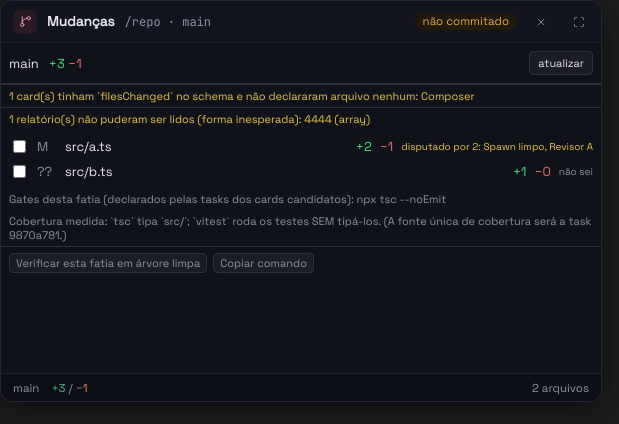
Test case: ChangesCard — a fatia › o limite (por ARQUIVO, arrasta hunk de terceiro) aparece NA SELEÇÃO
Click the checkbox in the row of "src/a.ts" at (20, 146), box [13, 140, 26, 153]
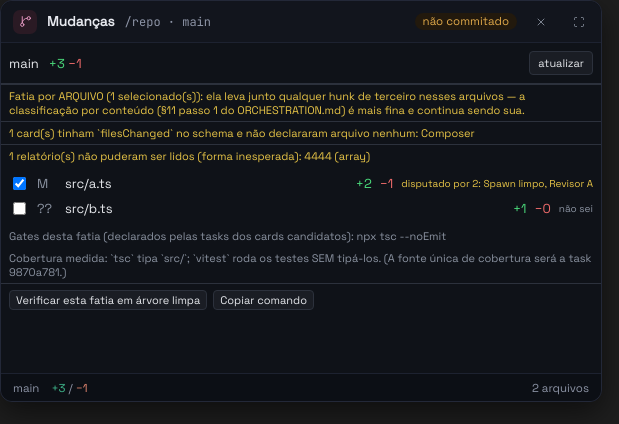
Check: the text "ARQUIVO" is shown, box [9, 89, 525, 117]
Check: the text "hunk de terceiro" is shown, box [9, 89, 525, 117]
